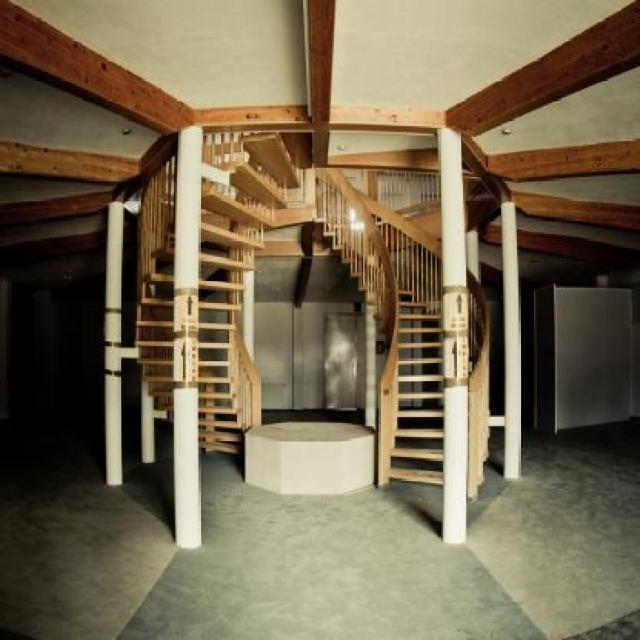stair: (136, 132, 490, 505)
